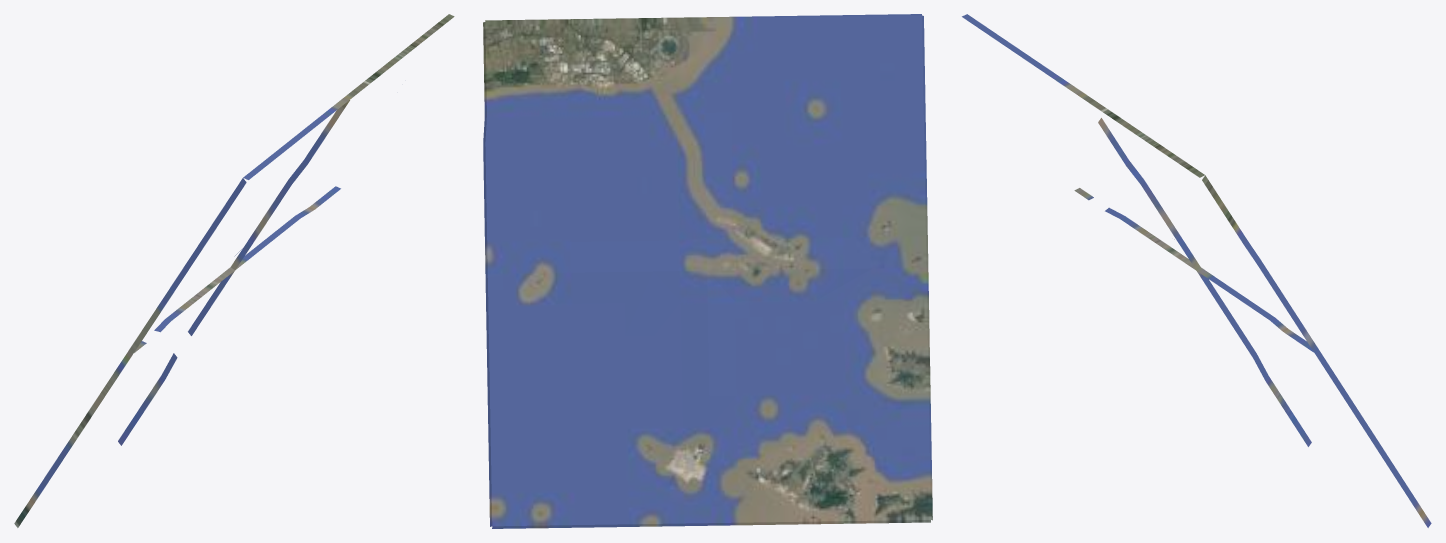
3 views of the same model, side by side, from view 1: azimuth 30°, elevation 25°; view 2: azimuth 150°, elevation 25°; view 3: azimuth 270°, elevation 25° (orthographic). The views are drawn at different scales.
Size of the model in its own units: 79054 by 68161 by 70579.
Materials: 1 (1 with a texture image).
